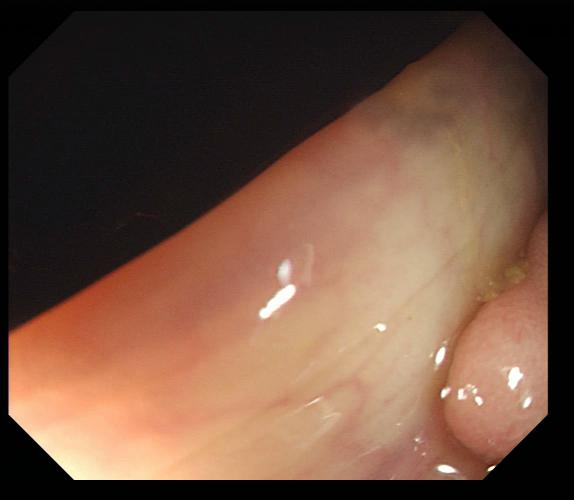polyp: (442, 211, 549, 464)
